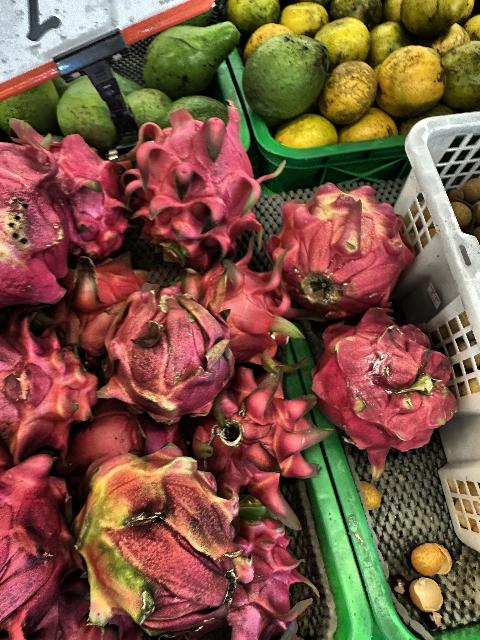buah-naga-belum-matang: (70, 454, 252, 634), (266, 184, 418, 306), (99, 287, 237, 421), (0, 128, 78, 324), (0, 312, 98, 458)
buah-naga-matang: (308, 308, 462, 464), (184, 376, 328, 520), (122, 120, 264, 266), (0, 454, 80, 640), (171, 261, 307, 363), (38, 121, 132, 255)
